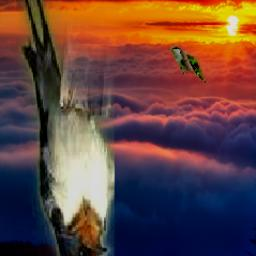Cuckoo: (167, 47, 209, 84)
Swallow: (18, 0, 115, 256)
